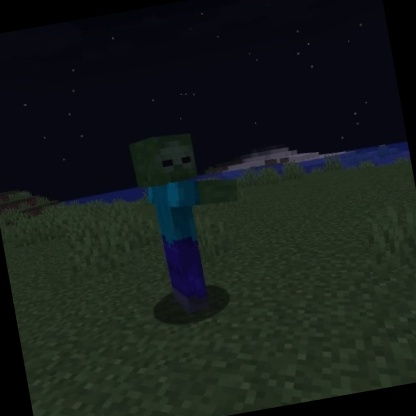zombie: (121, 121, 262, 323)
